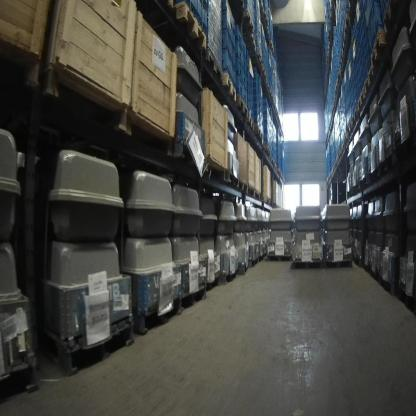pallet: (42, 62, 127, 132), (63, 322, 134, 377), (126, 104, 174, 157), (0, 31, 39, 86), (136, 291, 181, 335), (0, 354, 38, 401), (177, 10, 207, 50), (181, 282, 205, 313), (394, 130, 416, 162), (174, 141, 204, 164), (371, 29, 388, 69), (204, 155, 226, 181), (206, 47, 223, 80), (383, 0, 396, 35), (223, 73, 236, 102), (379, 151, 394, 174), (205, 275, 220, 295), (291, 261, 323, 270), (323, 260, 354, 269), (364, 66, 374, 93), (236, 96, 248, 117), (243, 11, 254, 33), (226, 171, 239, 188), (368, 165, 379, 185), (267, 254, 291, 263), (357, 87, 365, 111), (343, 12, 349, 39), (352, 108, 359, 126), (359, 175, 368, 189), (250, 33, 256, 53), (257, 47, 263, 67), (239, 181, 248, 192), (248, 116, 254, 132), (254, 127, 262, 139), (261, 64, 267, 80), (248, 185, 254, 197), (352, 184, 359, 194), (254, 189, 260, 200), (348, 122, 353, 135), (264, 10, 268, 26), (238, 0, 245, 9), (344, 133, 349, 145), (265, 144, 270, 155), (340, 51, 343, 69), (260, 0, 264, 13), (334, 82, 338, 95), (268, 4, 272, 17), (342, 36, 345, 53), (266, 80, 270, 92), (270, 89, 274, 101), (270, 40, 274, 51), (347, 189, 352, 197), (341, 143, 345, 153), (260, 139, 265, 147), (328, 29, 331, 40), (330, 0, 333, 11), (268, 154, 272, 161), (272, 100, 275, 109), (338, 150, 341, 158), (272, 157, 275, 165), (336, 156, 338, 164)
small_load_carrier: (369, 0, 383, 38), (366, 15, 374, 49), (222, 10, 231, 38), (198, 0, 207, 28), (363, 0, 372, 28), (222, 48, 231, 72), (222, 28, 231, 52), (222, 0, 231, 21), (370, 0, 382, 15), (231, 55, 236, 90), (236, 56, 243, 81), (236, 25, 243, 49), (236, 41, 243, 65), (236, 75, 243, 98), (231, 38, 236, 68), (231, 23, 236, 51), (231, 7, 236, 32), (243, 66, 247, 93), (243, 83, 247, 106), (243, 50, 247, 73), (190, 0, 198, 11), (335, 58, 341, 72), (200, 0, 207, 11), (243, 39, 247, 58), (359, 0, 366, 10), (335, 45, 340, 59), (334, 36, 339, 46), (333, 26, 337, 36)
